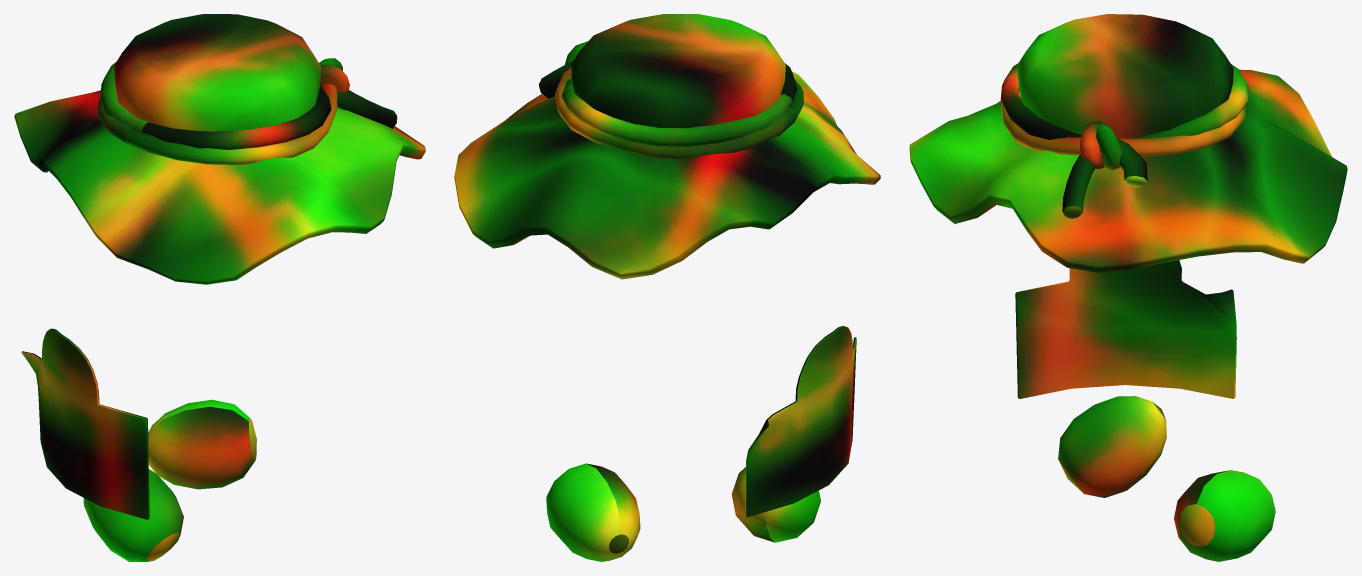
3 views of the same model, side by side, from view 1: azimuth 30°, elevation 25°; view 2: azimuth 150°, elevation 25°; view 3: azimuth 270°, elevation 25° (orthographic). The views are drawn at different scales.
Parts seen in each view (by area): view 1: SM_FellhollowPlatforming_Cobbles_LOD0; view 2: SM_FellhollowPlatforming_Cobbles_LOD0; view 3: SM_FellhollowPlatforming_Cobbles_LOD0.
Boxes of the visible parts, x1=… form: SM_FellhollowPlatforming_Cobbles_LOD0: x1=14, y1=14, x2=425, y2=561; SM_FellhollowPlatforming_Cobbles_LOD0: x1=454, y1=14, x2=880, y2=561; SM_FellhollowPlatforming_Cobbles_LOD0: x1=909, y1=14, x2=1347, y2=561.
Bounding box in the file's own units: 0.3164 × 0.4234 × 0.3438.
